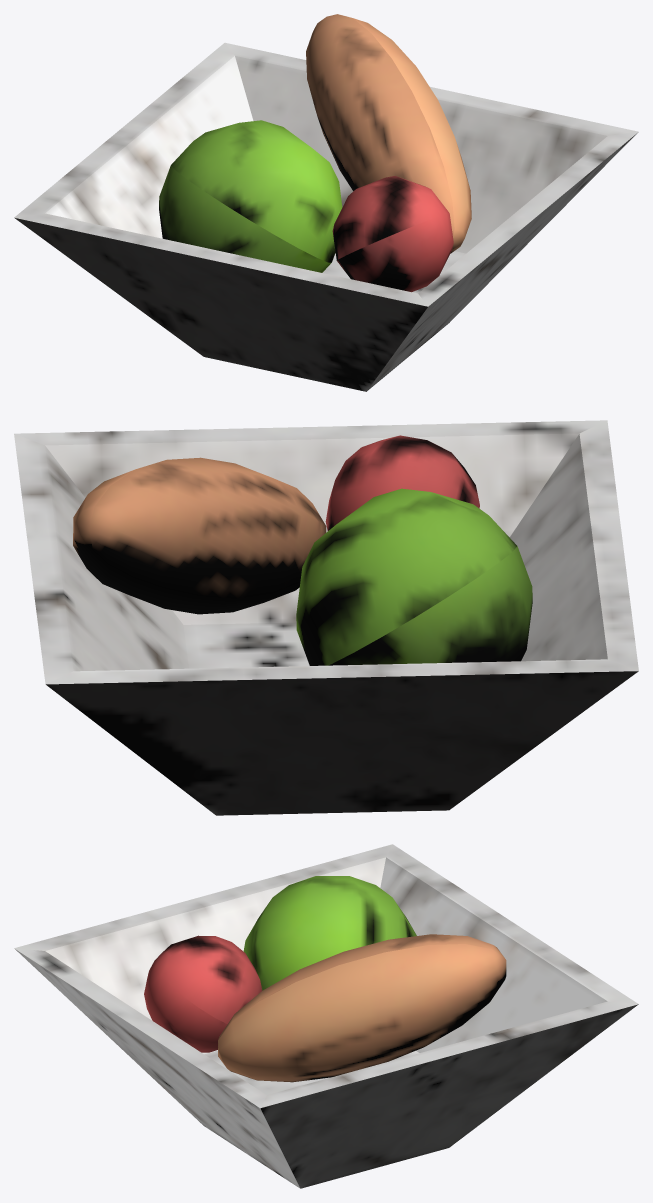
The model's file is BowlOfFruit.fbx.
The picture shows the model from 3 angles, top to bottom: view 1: azimuth 30°, elevation 25°; view 2: azimuth 150°, elevation 25°; view 3: azimuth 270°, elevation 25°; orthographic projection. The views are drawn at different scales.
Parts seen in each view (by area): view 1: pSphere4; view 2: pSphere4; view 3: pSphere4.
Boxes of the visible parts, box(x1,y1,x2,y2) form: pSphere4: box(14, 14, 638, 391); pSphere4: box(14, 420, 638, 815); pSphere4: box(14, 844, 638, 1188).
Size of the model in its own units: 40.83 by 17.24 by 40.83.
